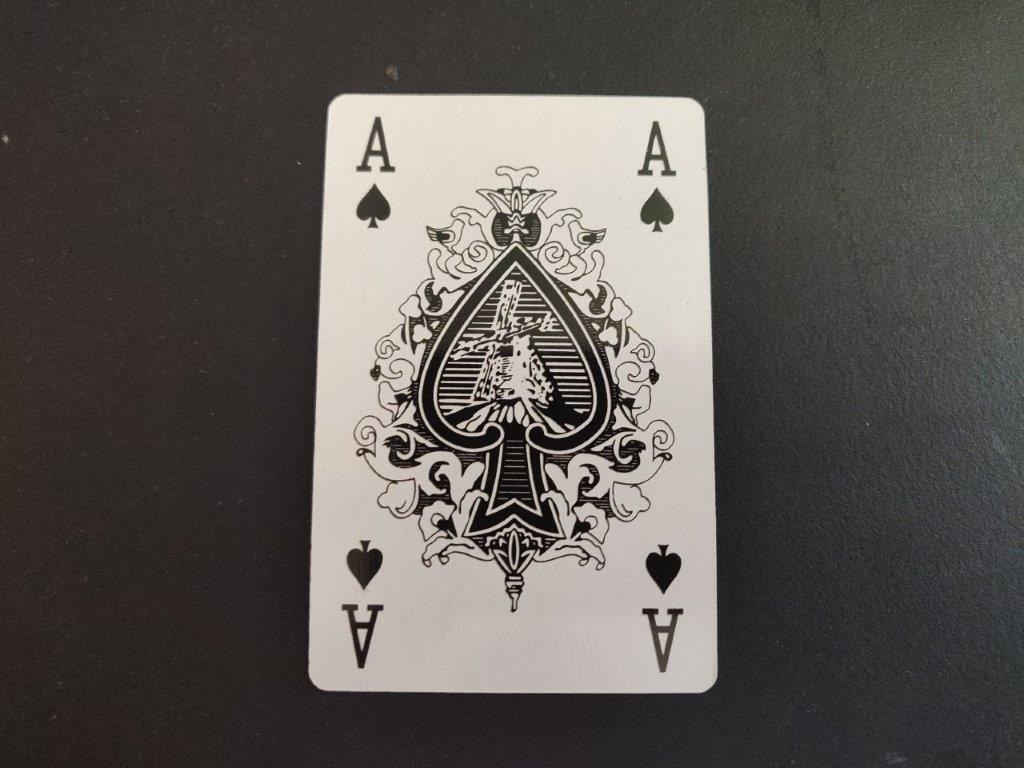AS: (351, 110, 400, 236), (635, 117, 679, 238)
